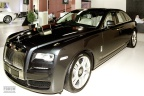car: (3, 9, 137, 94)
